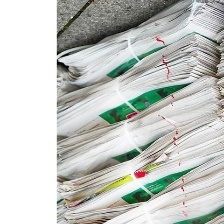news_paper: (54, 0, 223, 224)
